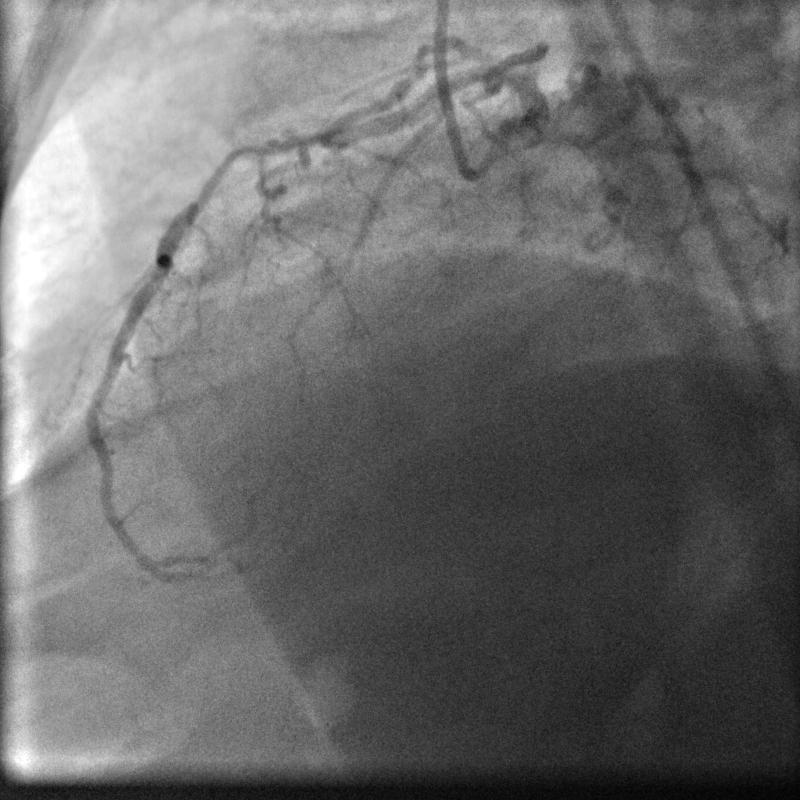Stenosis: (198, 141, 255, 201)
